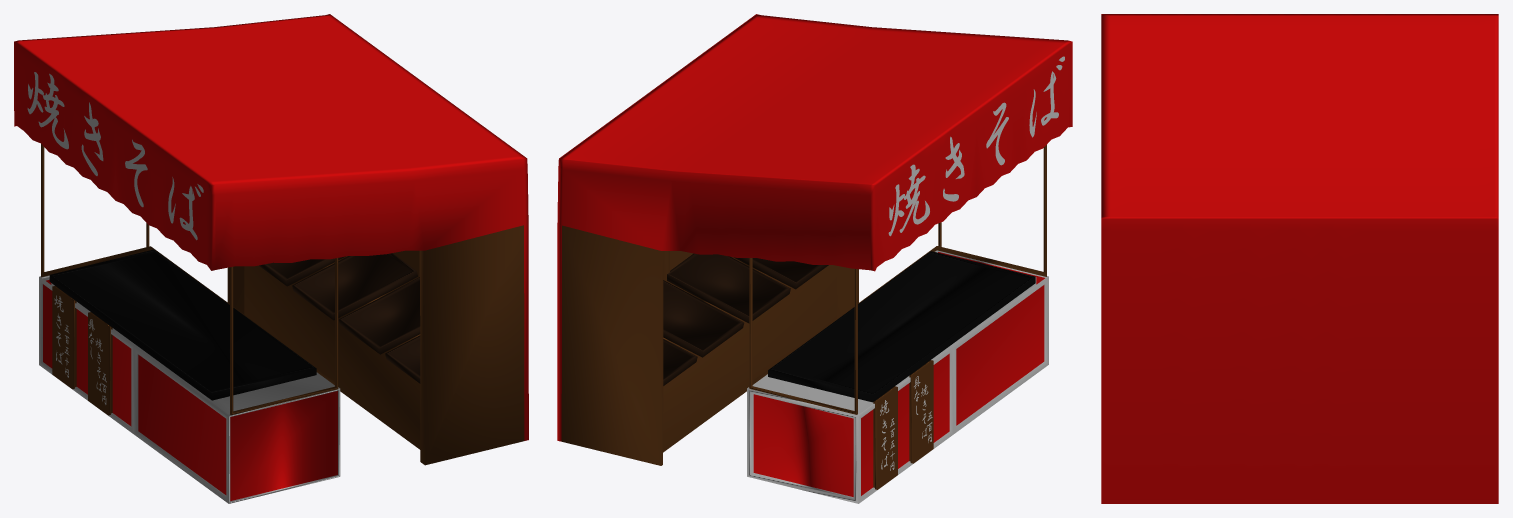
File: yatai.fbx
The picture shows the model from 3 angles, left to right: view 1: azimuth 30°, elevation 25°; view 2: azimuth 150°, elevation 25°; view 3: azimuth 270°, elevation 25°; orthographic projection.
Visible parts, largest first — view 1: 立方体.005; view 2: 立方体.005; view 3: 立方体.005.
Boxes of the visible parts, <box> form: 立方体.005: <box>14,14,528,503</box>; 立方体.005: <box>557,14,1072,503</box>; 立方体.005: <box>1101,14,1498,503</box>.
Size of the model in its own units: 7.54 by 7.53 by 8.11.
